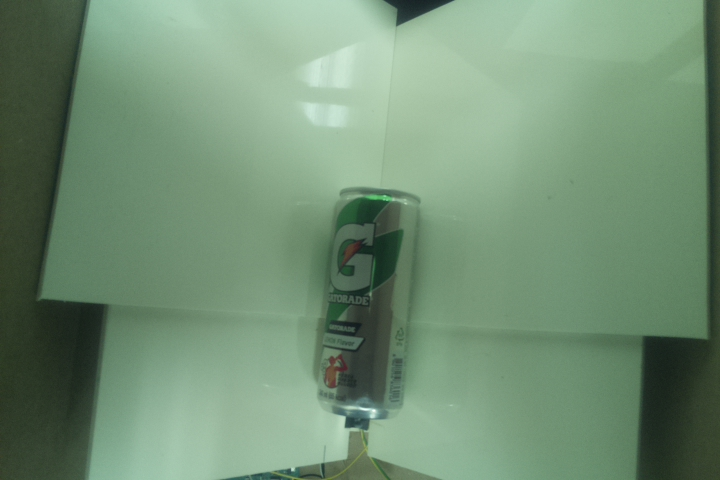can: (316, 186, 422, 420)
